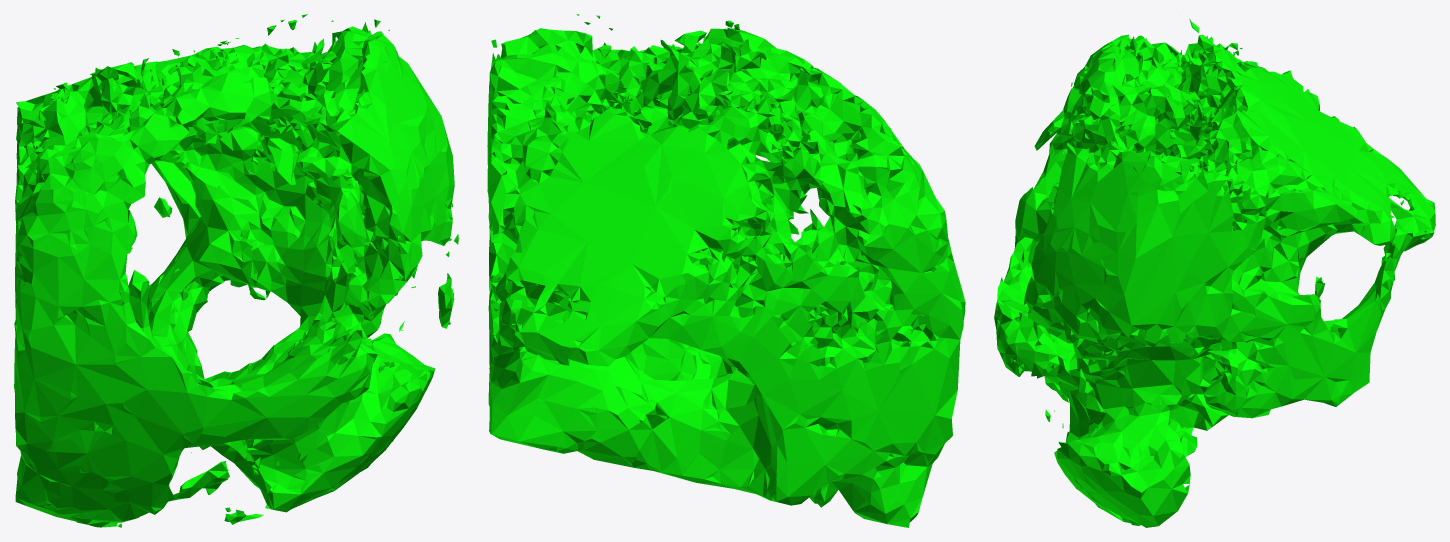
Rendered from B939XXXX-1_base_31.obj.
3 renders of one model, left to right at view 1: azimuth 30°, elevation 25°; view 2: azimuth 150°, elevation 25°; view 3: azimuth 270°, elevation 25°, orthographic. The views are drawn at different scales.
Visible parts, largest first — view 1: 31_base; view 2: 31_base; view 3: 31_base.
Part boxes in pixels (left/top/right/bottom): 31_base: left=14, top=14, right=458, bottom=527; 31_base: left=487, top=14, right=965, bottom=527; 31_base: left=994, top=19, right=1435, bottom=527.
Bounding box in the file's own units: 216 × 213 × 202.
